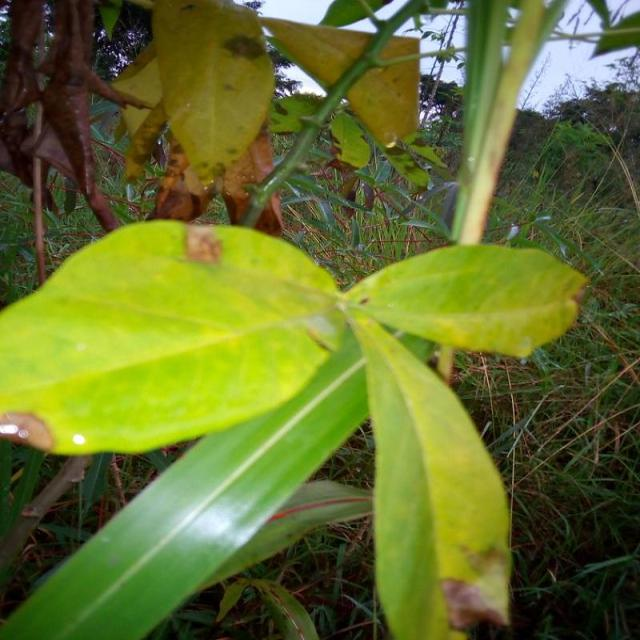cassava leaf: (0, 219, 586, 638), (0, 216, 346, 455), (341, 242, 588, 360), (150, 0, 276, 185), (258, 14, 420, 149)
